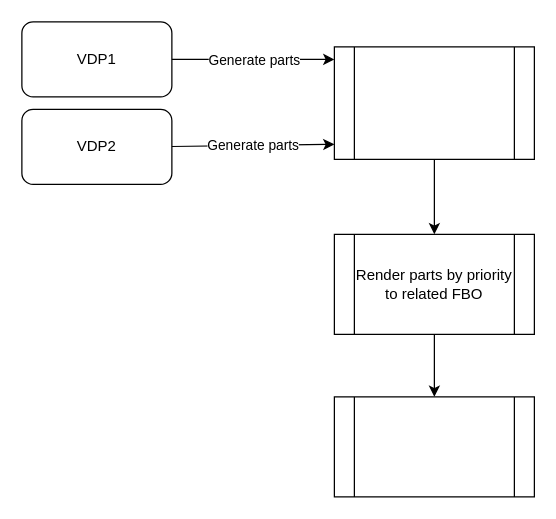
Image size: 556x519. Some labels were removed from this diagram. Each missing label, with the centre of its shape:
"Render to framebuffer" belongs at point 433,446.
"Sort parts by priority" belongs at point 433,102.
